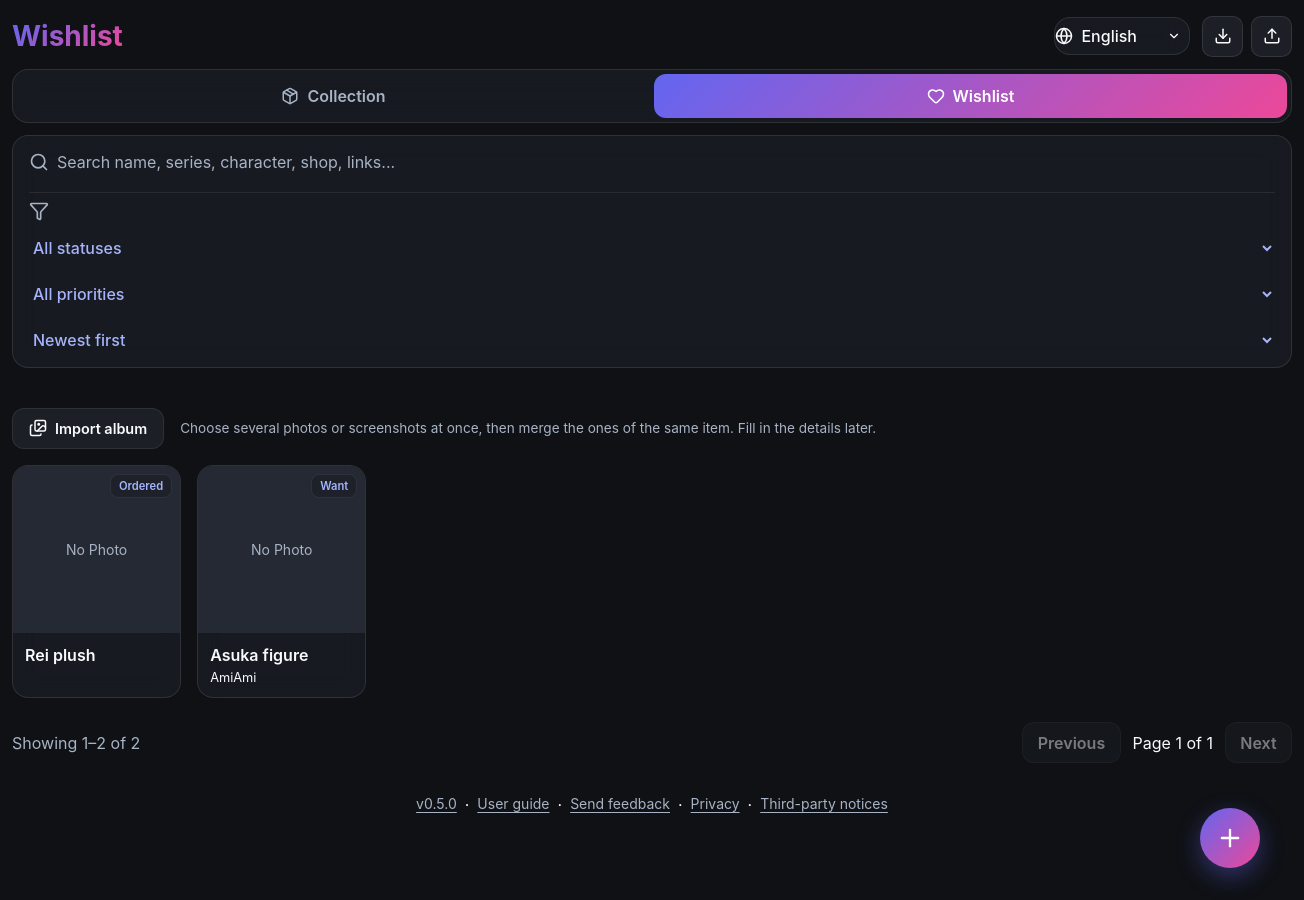
Test: Wishlist › searches and filters entries, with a distinct message for no matches
Type "amiami" into the search field named "Search wishlist" at (662, 162), box [49, 144, 1275, 180]
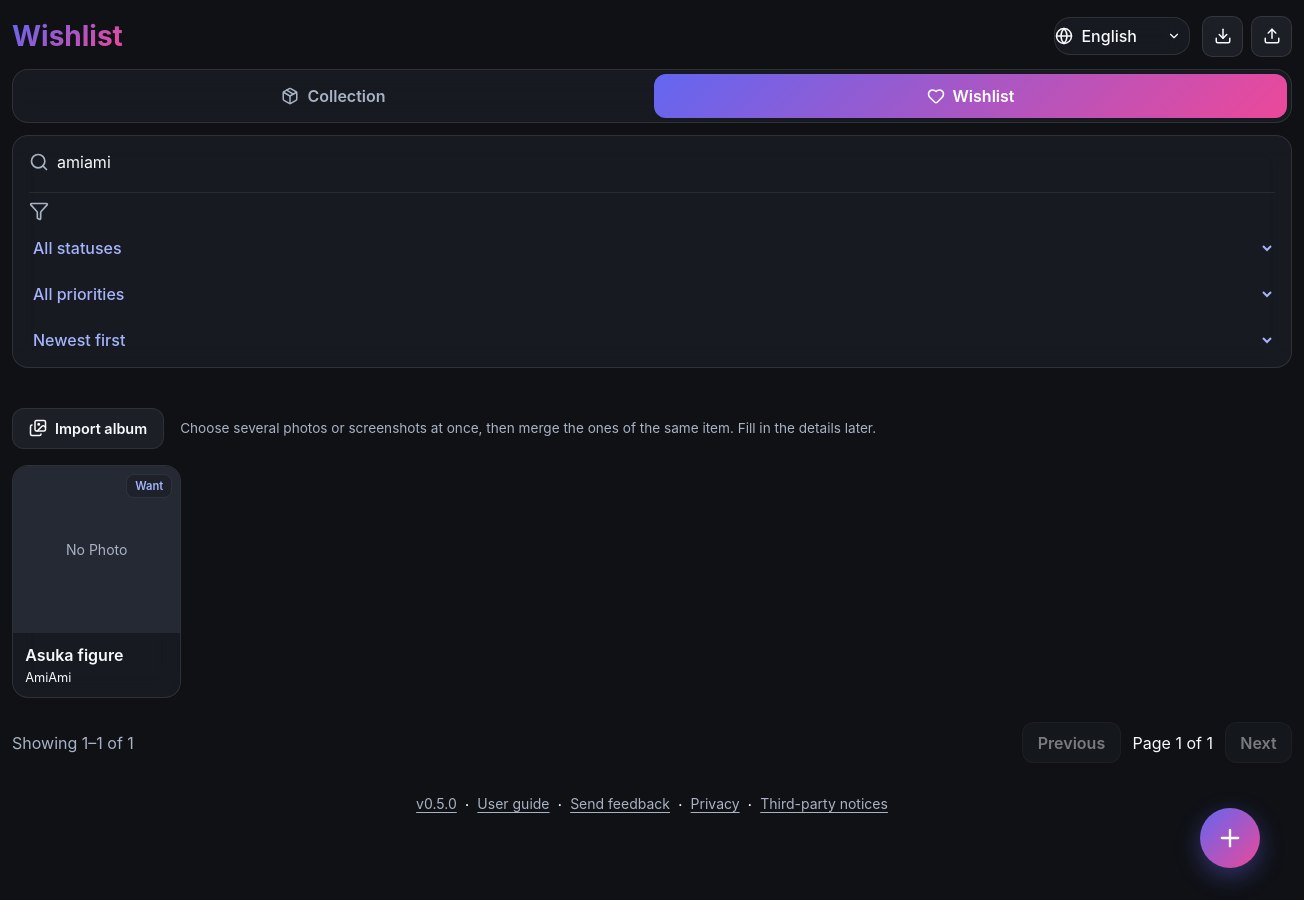
expect the heading "Asuka figure" is shown: met, box [25, 645, 123, 665]
expect the link "Rei plush" is gone: met
Select "Ordered" in the dropdown named "Filter by status" at (652, 248), box [29, 229, 1275, 267]
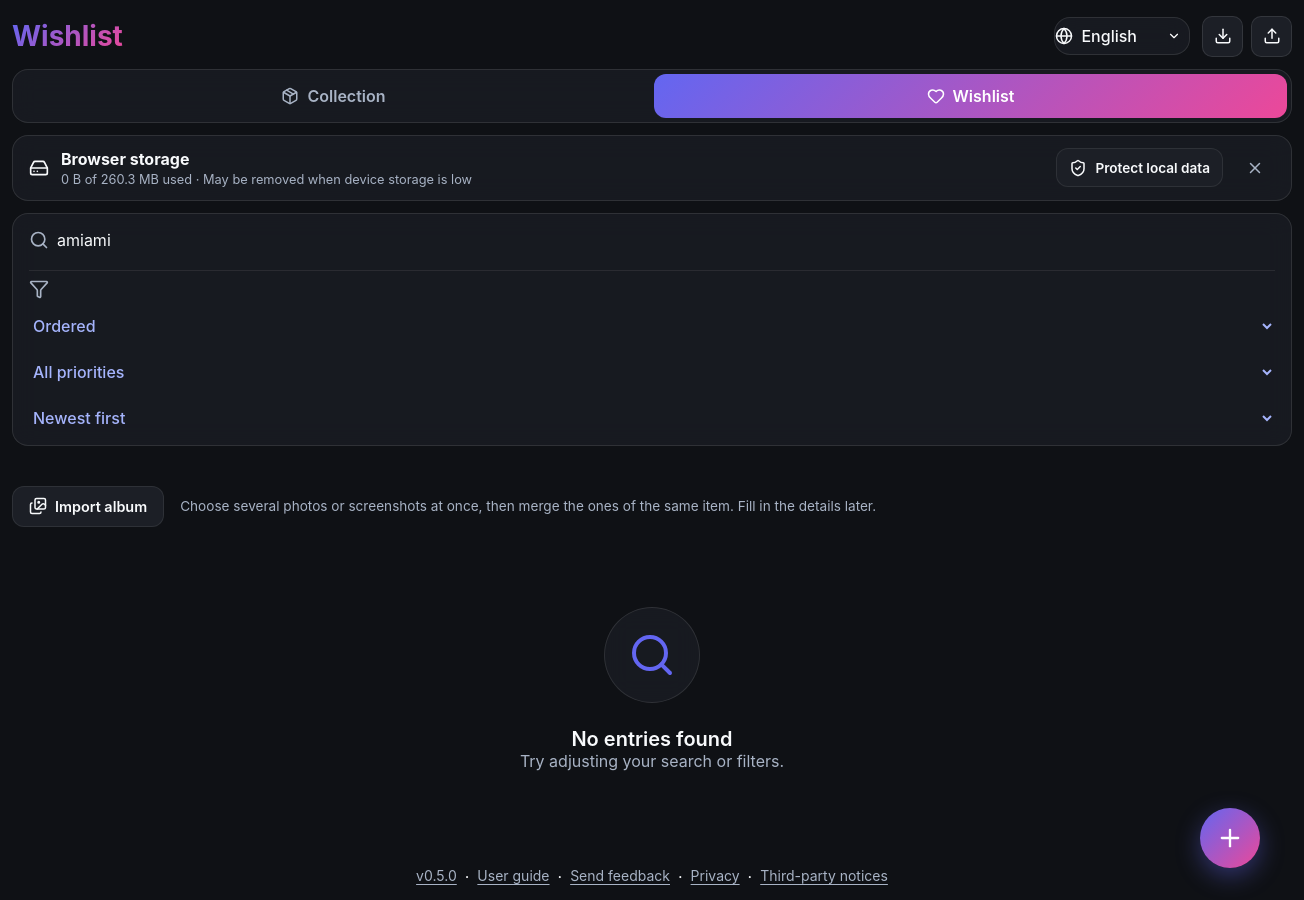
expect the heading "No entries found" is shown: met, box [571, 727, 732, 751]
expect the text "Try adjusting your search or filters." is shown: met, box [520, 751, 784, 771]
